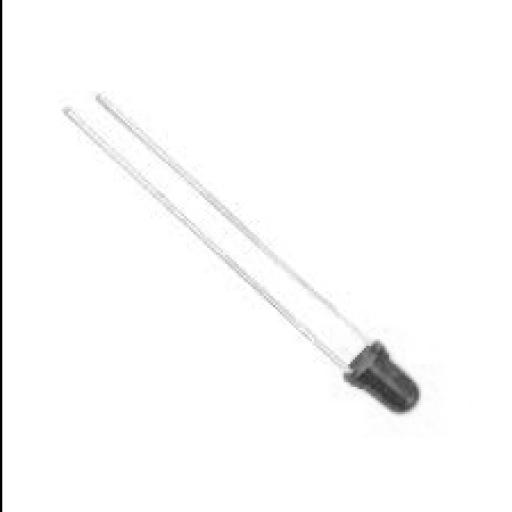LED: (28, 48, 505, 512)
